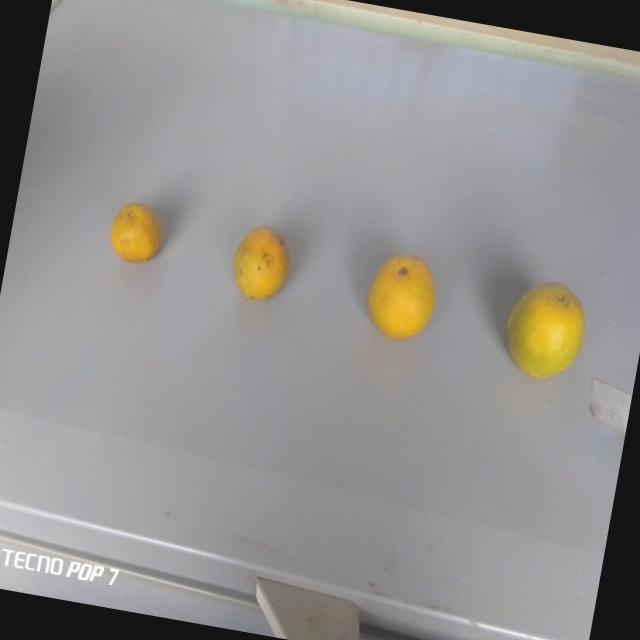agrume: (499, 264, 591, 388), (357, 237, 446, 350), (223, 214, 294, 314), (101, 193, 173, 271)
